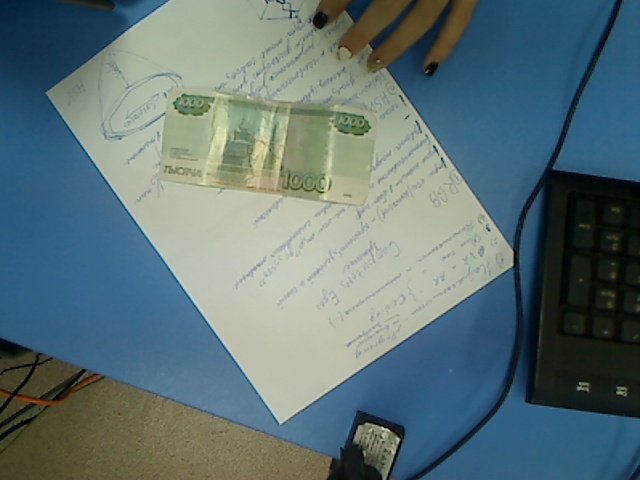banknotes: (157, 83, 381, 209)
